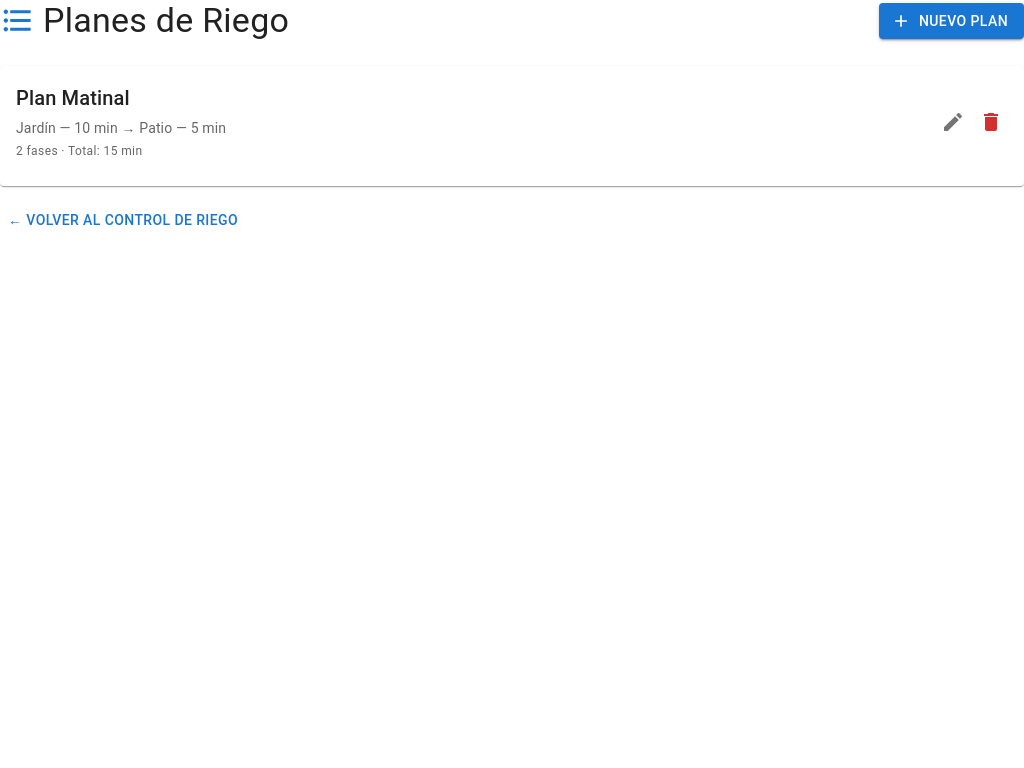
Test: RiegoPlansPage › opens create dialog
Expected: the heading "Plan Matinal" is shown, [16,86,130,110]
Click the button "Nuevo Plan": (951, 21) [879,3,1023,39]
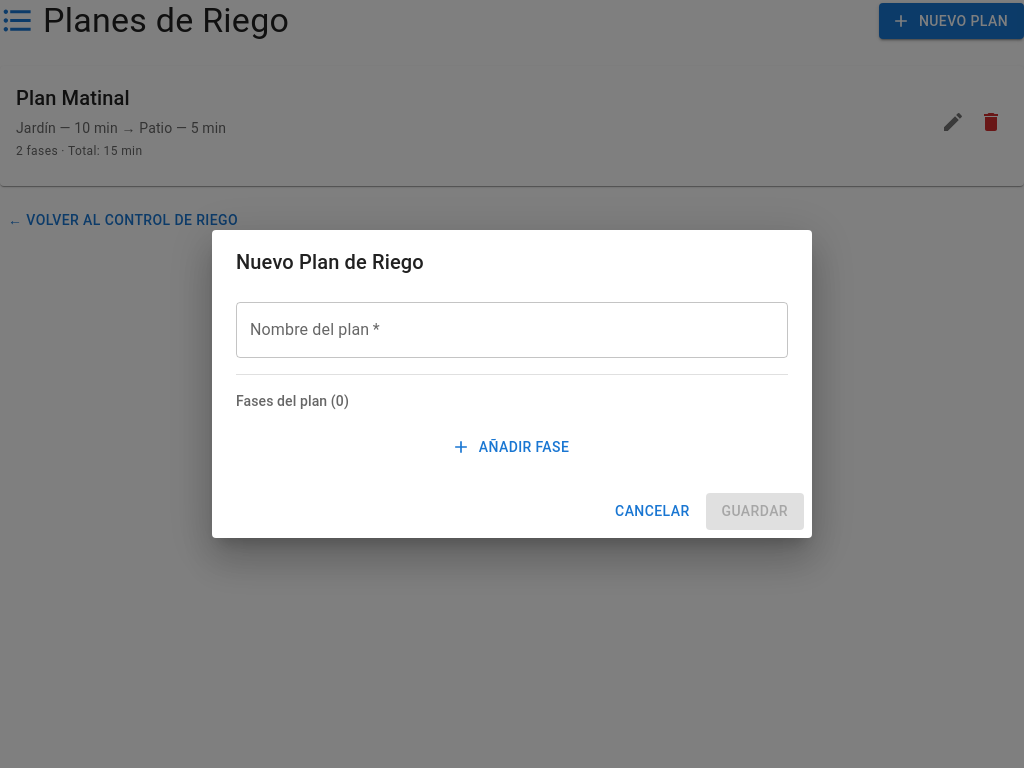
Now the heading "Nuevo Plan de Riego" is shown, box [236,250,424,274]
Now the button "Guardar" is shown, box [706,494,804,530]
